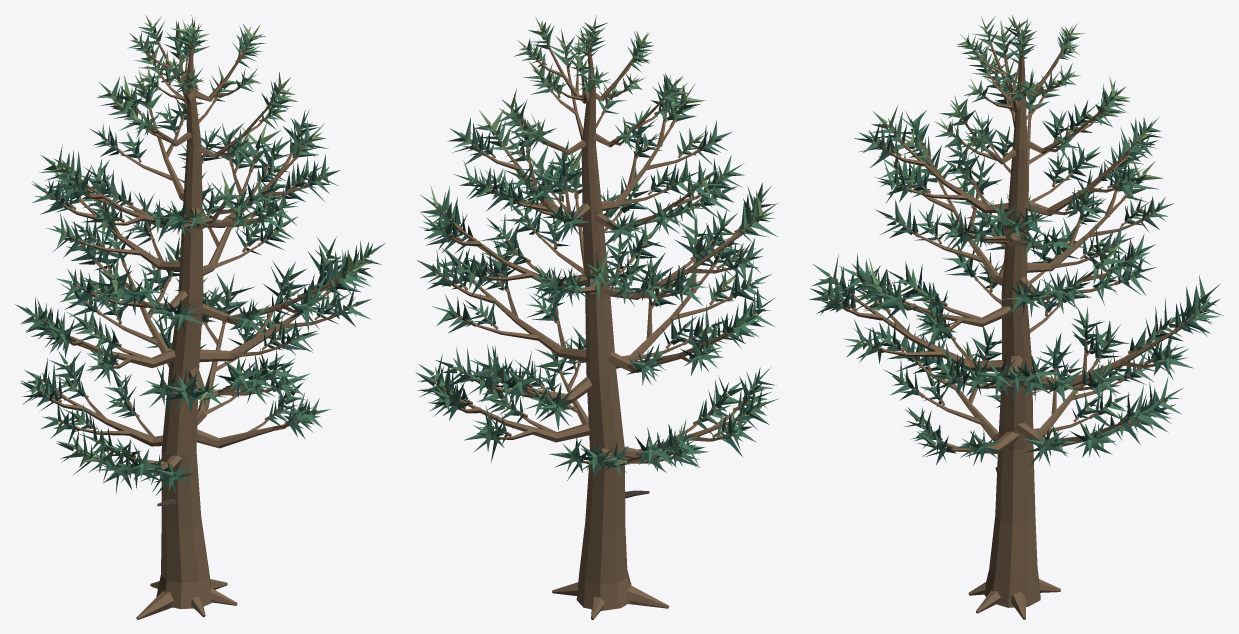
Rendered from conifer-v2.glb.
3 views of the same model, side by side, from view 1: azimuth 30°, elevation 25°; view 2: azimuth 150°, elevation 25°; view 3: azimuth 270°, elevation 25° (orthographic).
Visible parts, largest first — view 1: Conifer v2 | middle crown needle shoots, Conifer v2 | lower crown needle shoots, Conifer v2 | tapering dominant axis, Conifer v2 | primary structural boughs, Conifer v2 | secondary branchlet fans, Conifer v2 | upper crown and leader needles, Conifer v2 | fine terminal woody shoots, Conifer v2 | unequal buttress roots; view 2: Conifer v2 | middle crown needle shoots, Conifer v2 | lower crown needle shoots, Conifer v2 | tapering dominant axis, Conifer v2 | primary structural boughs, Conifer v2 | secondary branchlet fans, Conifer v2 | upper crown and leader needles, Conifer v2 | fine terminal woody shoots, Conifer v2 | unequal buttress roots; view 3: Conifer v2 | middle crown needle shoots, Conifer v2 | lower crown needle shoots, Conifer v2 | tapering dominant axis, Conifer v2 | primary structural boughs, Conifer v2 | secondary branchlet fans, Conifer v2 | upper crown and leader needles, Conifer v2 | fine terminal woody shoots, Conifer v2 | unequal buttress roots.
Part boxes in pixels (x1=…): Conifer v2 | middle crown needle shoots: x1=31, y1=69, x2=385, y2=340; Conifer v2 | lower crown needle shoots: x1=15, y1=221, x2=371, y2=495; Conifer v2 | tapering dominant axis: x1=156, y1=37, x2=212, y2=609; Conifer v2 | primary structural boughs: x1=57, y1=39, x2=338, y2=506; Conifer v2 | secondary branchlet fans: x1=44, y1=51, x2=343, y2=478; Conifer v2 | upper crown and leader needles: x1=110, y1=15, x2=297, y2=165; Conifer v2 | fine terminal woody shoots: x1=32, y1=25, x2=370, y2=476; Conifer v2 | unequal buttress roots: x1=136, y1=579, x2=237, y2=619; Conifer v2 | middle crown needle shoots: x1=419, y1=74, x2=777, y2=307; Conifer v2 | lower crown needle shoots: x1=415, y1=214, x2=778, y2=480; Conifer v2 | tapering dominant axis: x1=576, y1=38, x2=631, y2=610; Conifer v2 | primary structural boughs: x1=452, y1=44, x2=745, y2=498; Conifer v2 | secondary branchlet fans: x1=447, y1=59, x2=738, y2=467; Conifer v2 | upper crown and leader needles: x1=496, y1=15, x2=689, y2=151; Conifer v2 | fine terminal woody shoots: x1=433, y1=26, x2=762, y2=463; Conifer v2 | unequal buttress roots: x1=552, y1=582, x2=669, y2=619; Conifer v2 | middle crown needle shoots: x1=839, y1=68, x2=1174, y2=348; Conifer v2 | lower crown needle shoots: x1=809, y1=193, x2=1223, y2=467; Conifer v2 | tapering dominant axis: x1=984, y1=36, x2=1040, y2=607; Conifer v2 | primary structural boughs: x1=849, y1=46, x2=1185, y2=471; Conifer v2 | secondary branchlet fans: x1=842, y1=56, x2=1174, y2=451; Conifer v2 | upper crown and leader needles: x1=934, y1=15, x2=1130, y2=163; Conifer v2 | fine terminal woody shoots: x1=824, y1=25, x2=1202, y2=449; Conifer v2 | unequal buttress roots: x1=968, y1=579, x2=1060, y2=619.
Size of the model in its own units: 4.34 by 7.25 by 4.66.
